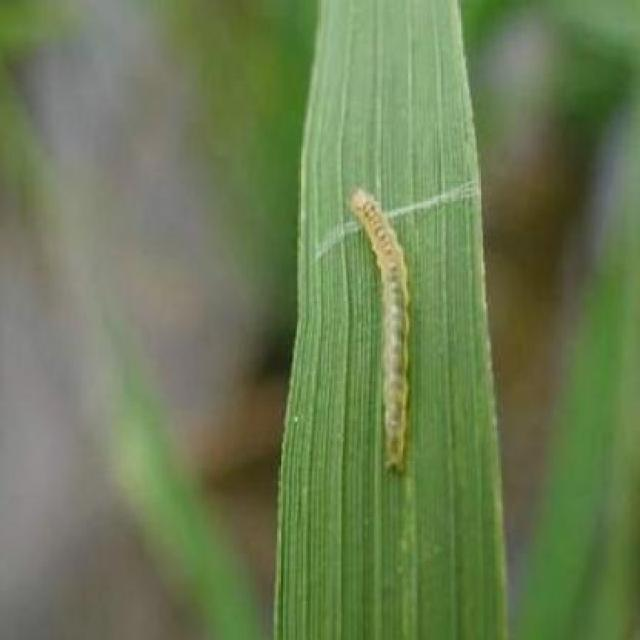leaf-folder: (336, 167, 422, 490)
